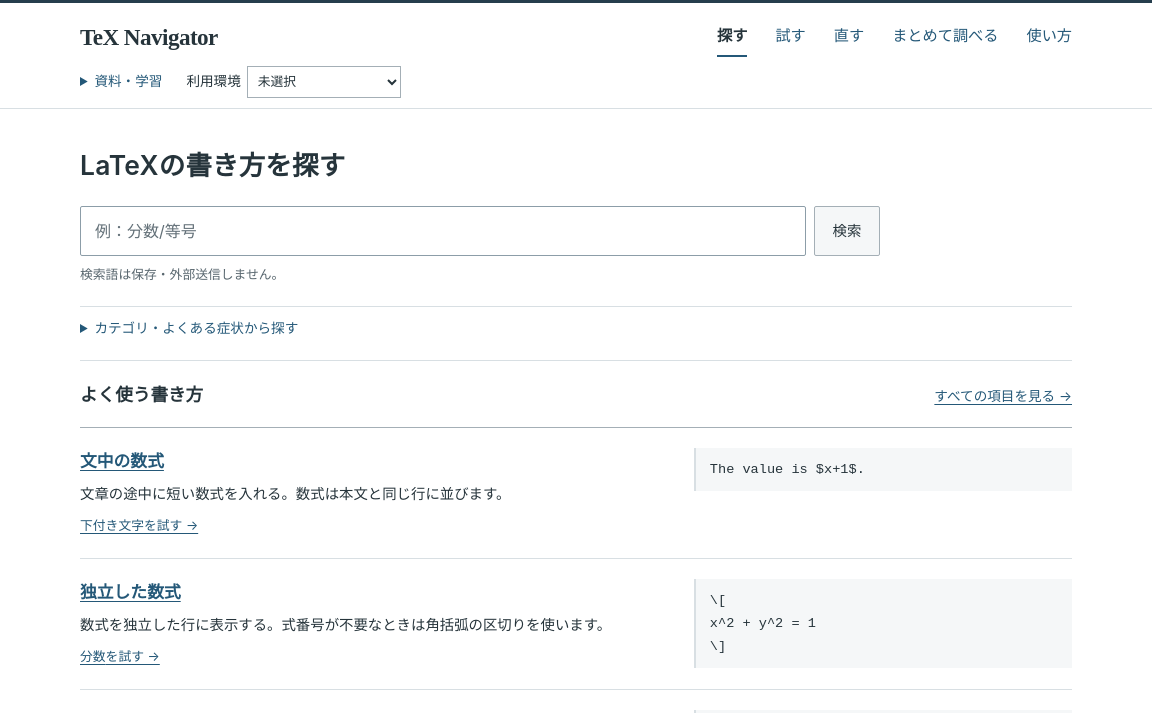
Test: 検索中もStorage・外部APIを使わない
Step 1. Type "emacs" into the search field → (443, 230), box top-left (80, 206), bottom-right (806, 256)
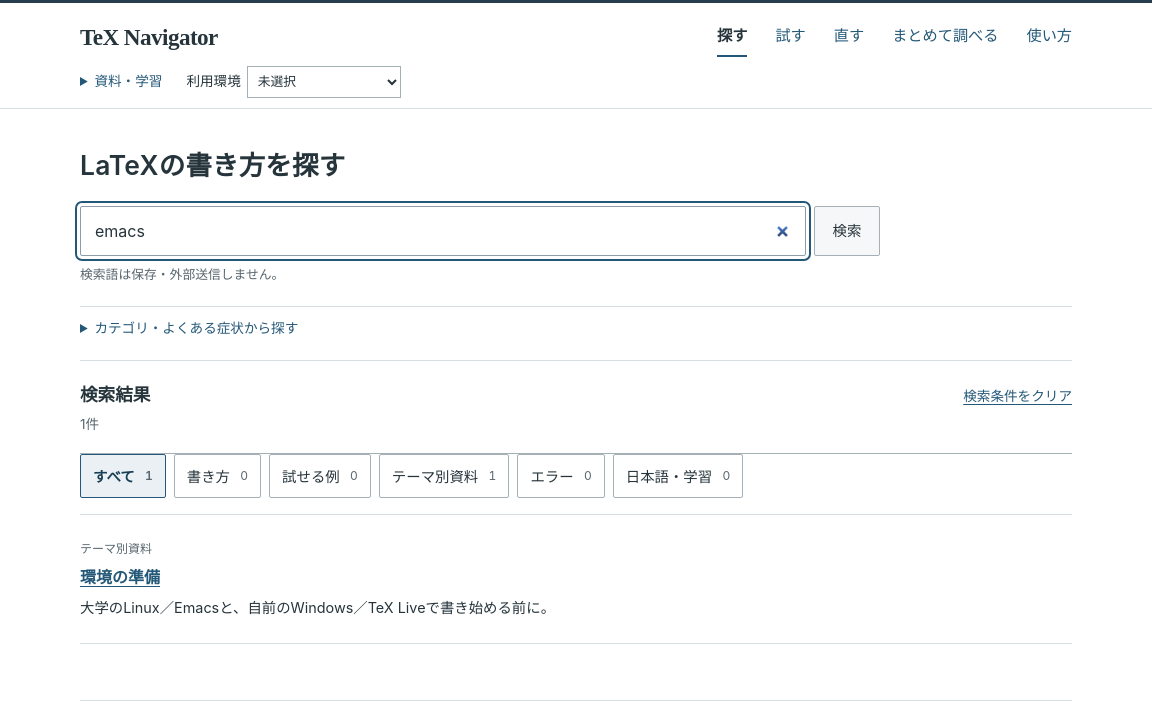
Expected: the link with aria-label "環境の準備（テーマ別資料）" is shown, top-left (80, 567), bottom-right (160, 587)
